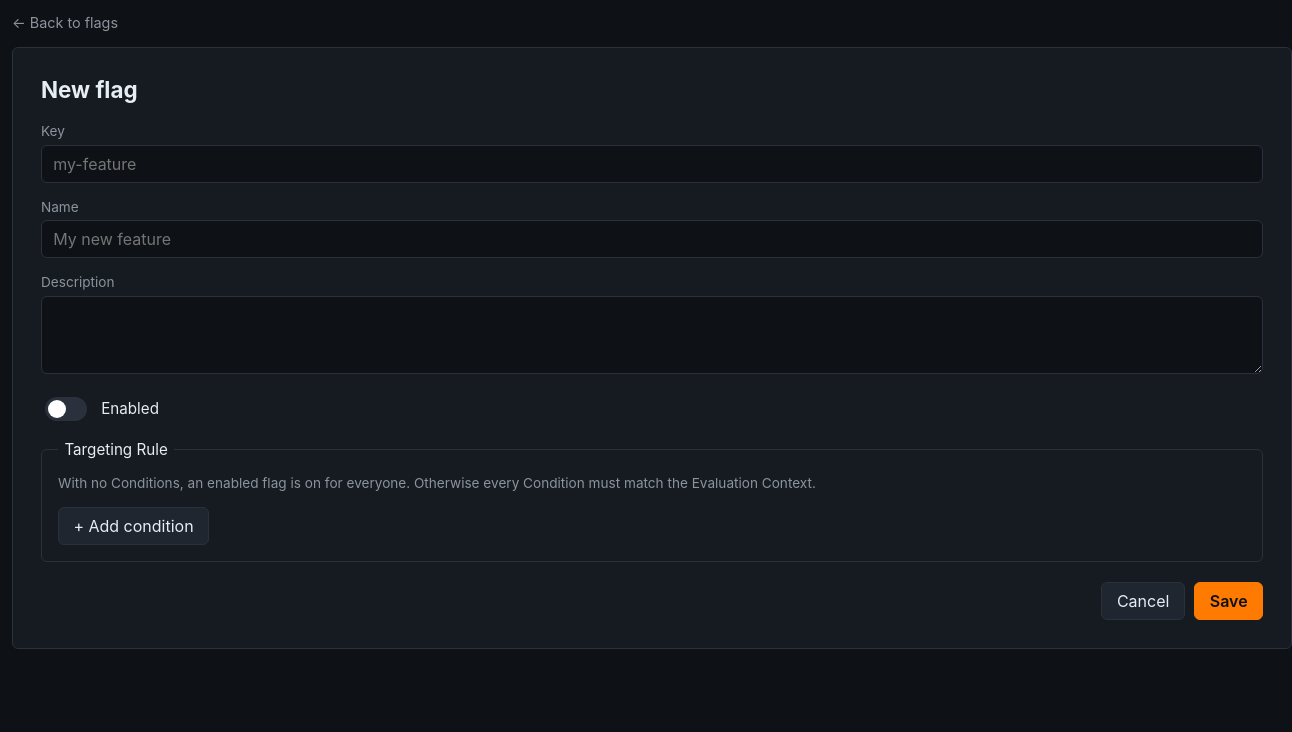
Scenario: FlagFormComponent › create mode › lists backend field errors that are not about a Condition
Type "my-flag" into the field with id "key".
click(652, 164); type("my-flag")  # box [41, 145, 1263, 183]
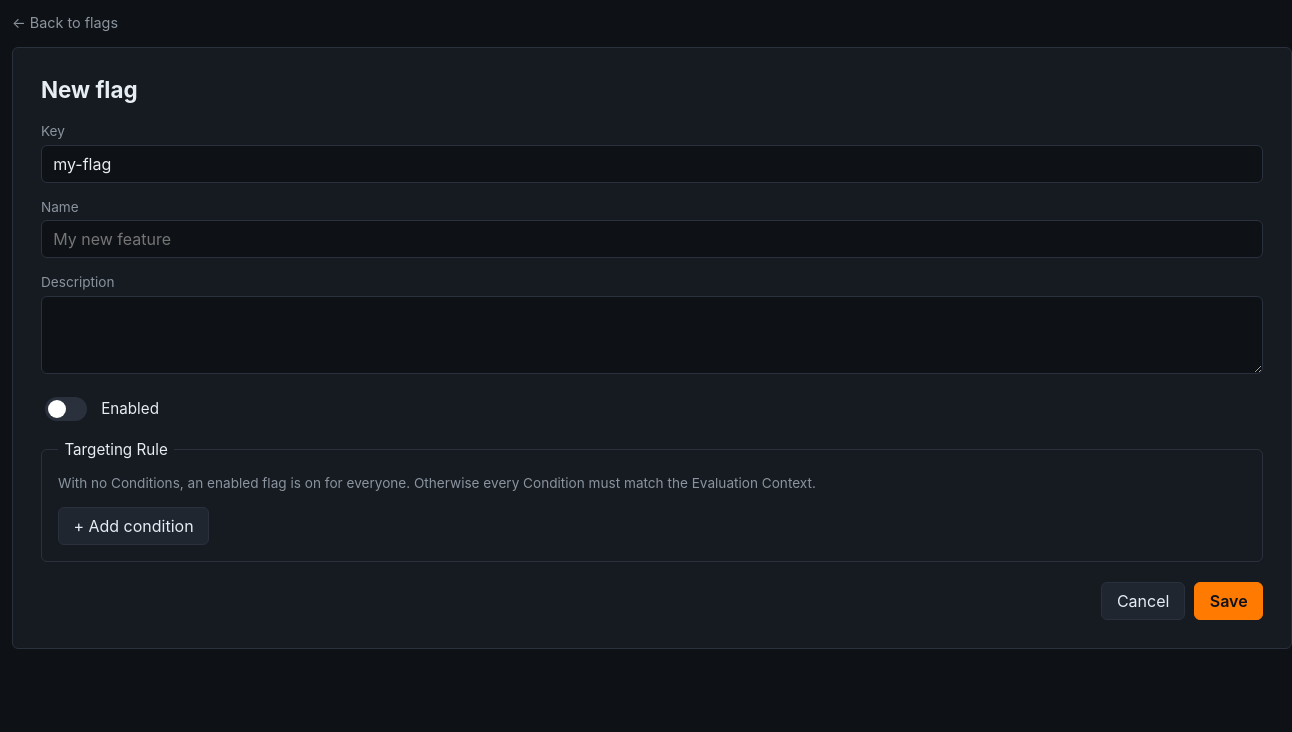
Type "My Flag" into the field with id "name".
click(652, 239); type("My Flag")  # box [41, 220, 1263, 258]
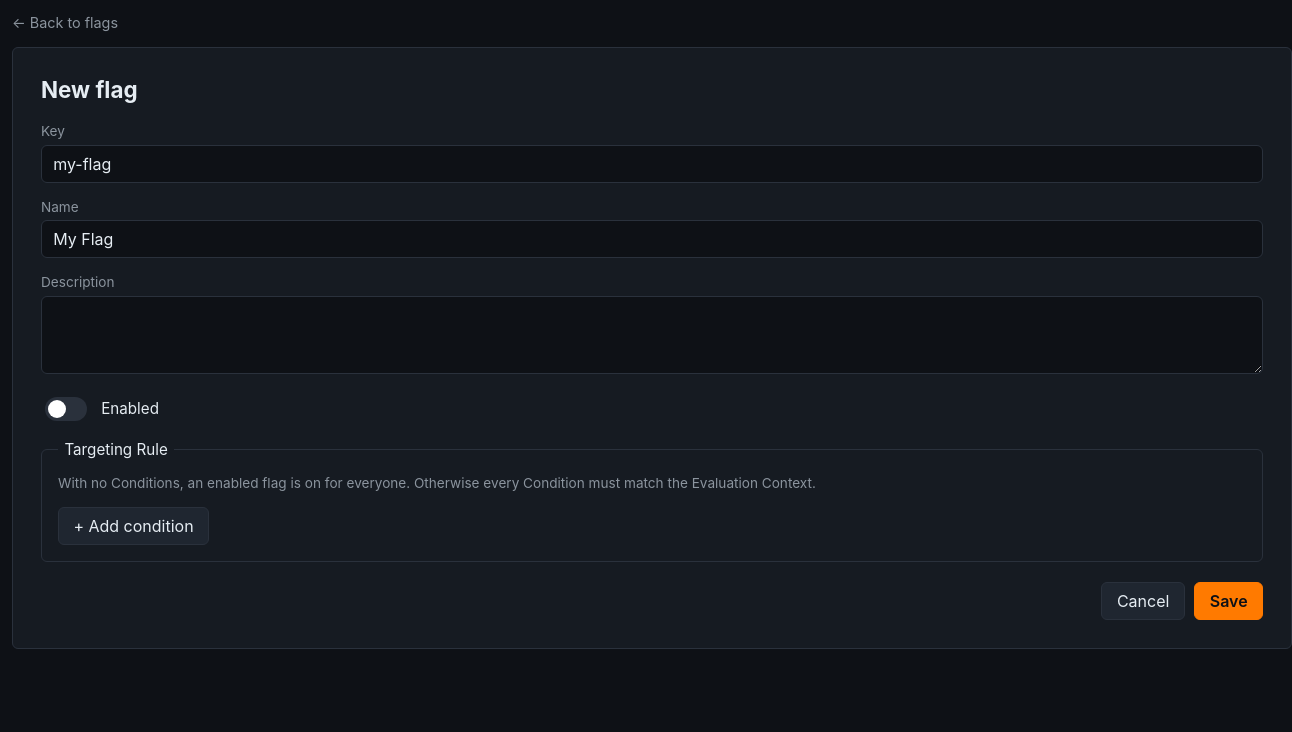
Click the submit button.
click(1229, 601)  # box [1194, 582, 1263, 620]
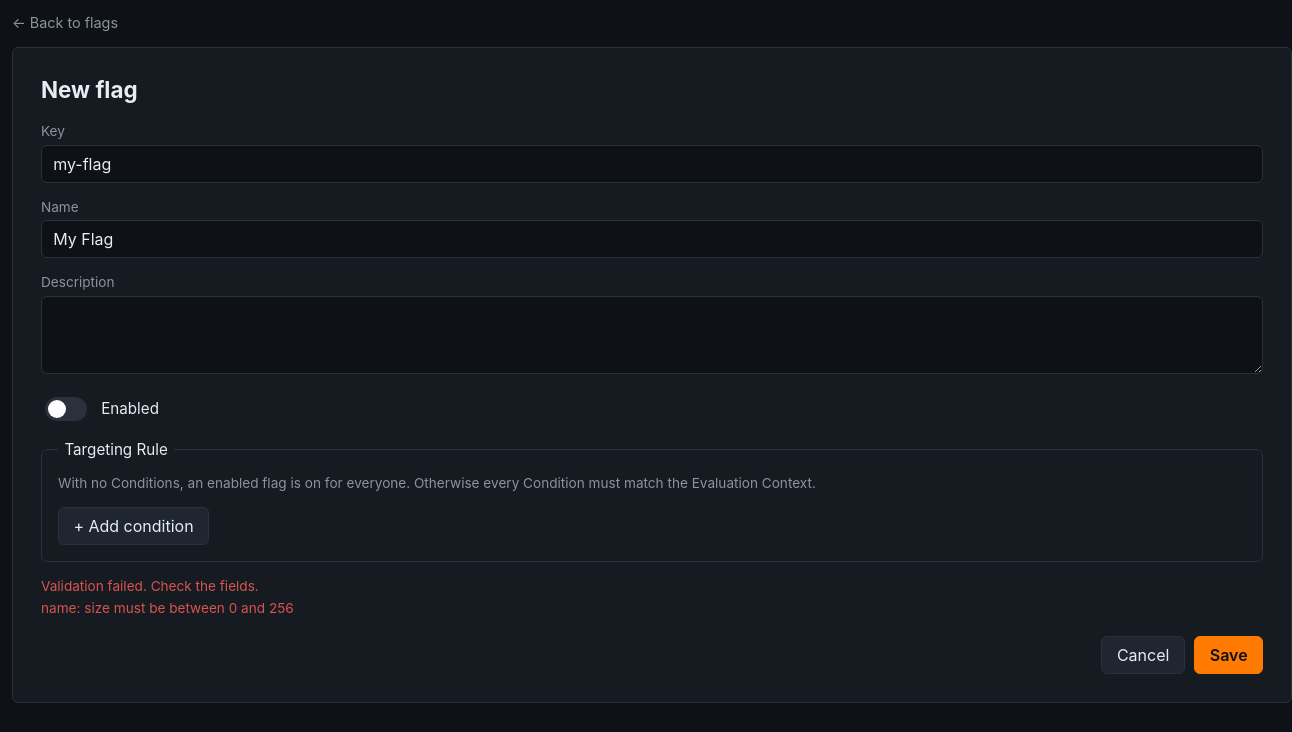
Result: the text "name: size must be between 0 and 256" is shown at [41, 600, 294, 616]
